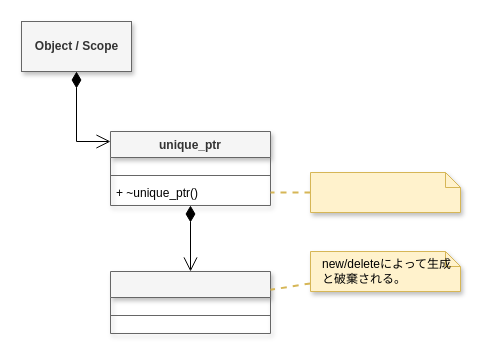
Some shapes in this 484 by 358 pixel diagram are drawn without their labels. The shapes that lost their labels are listed below. From the top down, each one's centre as x and y in pixels, then its label:
the point at 386,194: デストラクタでResourceをdeleteする。
the point at 191,303: Resource
